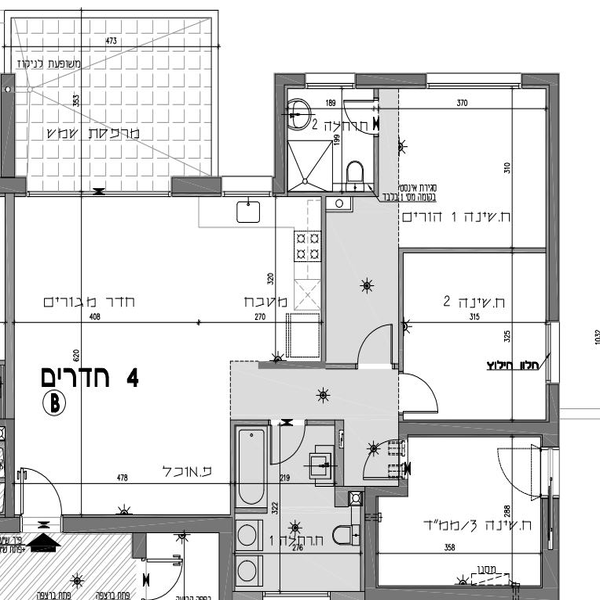room: (2, 174, 238, 535), (360, 65, 577, 256), (356, 416, 567, 600), (394, 246, 566, 447), (15, 460, 73, 517), (491, 444, 547, 498), (395, 367, 447, 414), (355, 312, 399, 366), (362, 439, 411, 481), (144, 556, 186, 600), (261, 423, 303, 466)
wall: (542, 84, 566, 324), (2, 198, 17, 535), (396, 413, 549, 441), (362, 581, 557, 600), (59, 513, 233, 533), (314, 194, 332, 363), (358, 484, 384, 600), (536, 492, 564, 588), (272, 64, 291, 194), (1, 70, 17, 195), (332, 419, 353, 509), (354, 65, 427, 90), (260, 356, 357, 374), (218, 518, 238, 600), (395, 247, 547, 257), (397, 251, 409, 372), (546, 386, 563, 454), (172, 173, 220, 197), (289, 188, 371, 201), (371, 133, 383, 198), (522, 70, 559, 88), (230, 417, 268, 432), (227, 405, 232, 516), (307, 418, 343, 428)
window: (431, 72, 524, 92), (544, 323, 569, 387), (259, 584, 326, 600), (306, 70, 355, 87)
